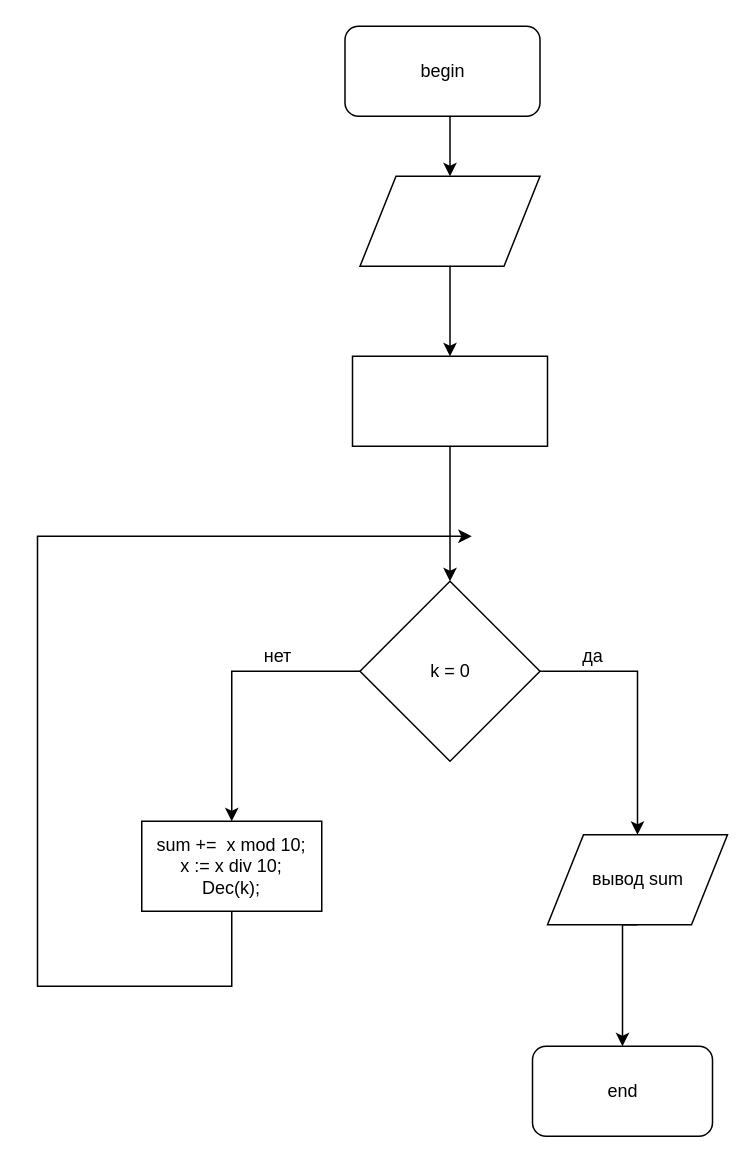
Some shapes in this 753 by 1163 pixel diagram are drawn without their labels. Each missing label, with the box of its shape:
sum := 0: (351, 355, 548, 446)
ввод x, k: (358, 175, 540, 266)
